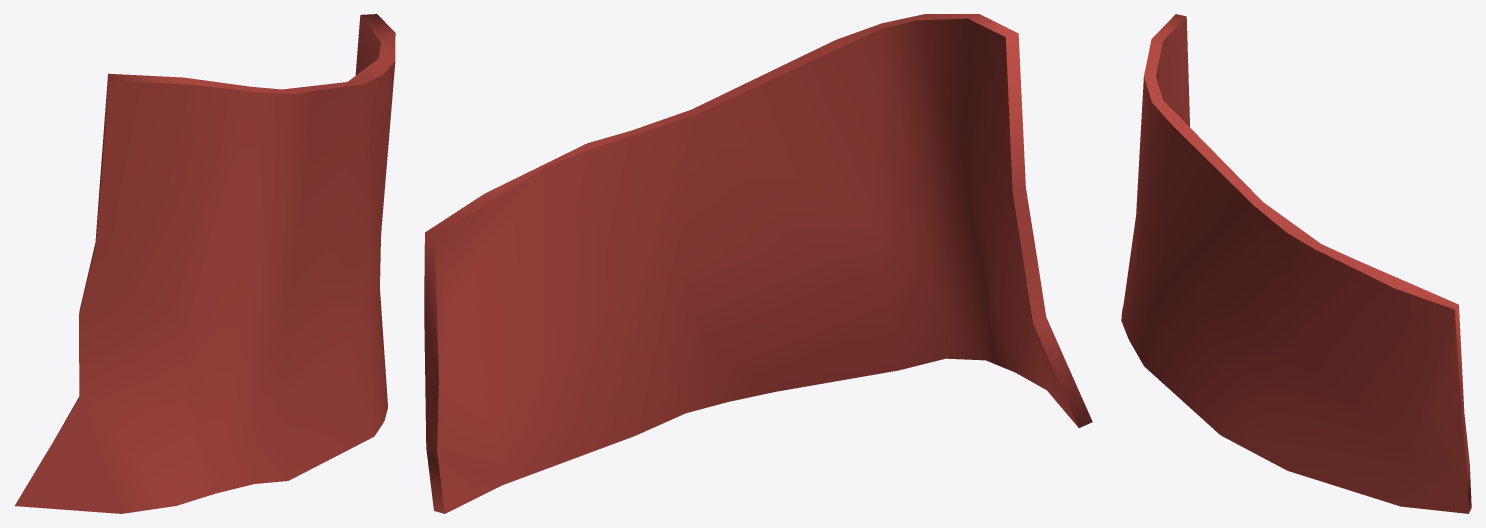
The model's file is musculos-superior-extensor-retinaculum-of-ankle-l.glb.
3 views of the same model, side by side, from view 1: azimuth 30°, elevation 25°; view 2: azimuth 150°, elevation 25°; view 3: azimuth 270°, elevation 25° (orthographic). The views are drawn at different scales.
Visible parts, largest first — view 1: Superior extensor retinaculum of ankle.l; view 2: Superior extensor retinaculum of ankle.l; view 3: Superior extensor retinaculum of ankle.l.
Boxes of the visible parts, box(x1,y1,x2,y2) form: Superior extensor retinaculum of ankle.l: box(15, 14, 395, 513); Superior extensor retinaculum of ankle.l: box(424, 14, 1092, 513); Superior extensor retinaculum of ankle.l: box(1121, 14, 1471, 513).
Bounding box in the file's own units: 0.0373 × 0.0315 × 0.0289.
